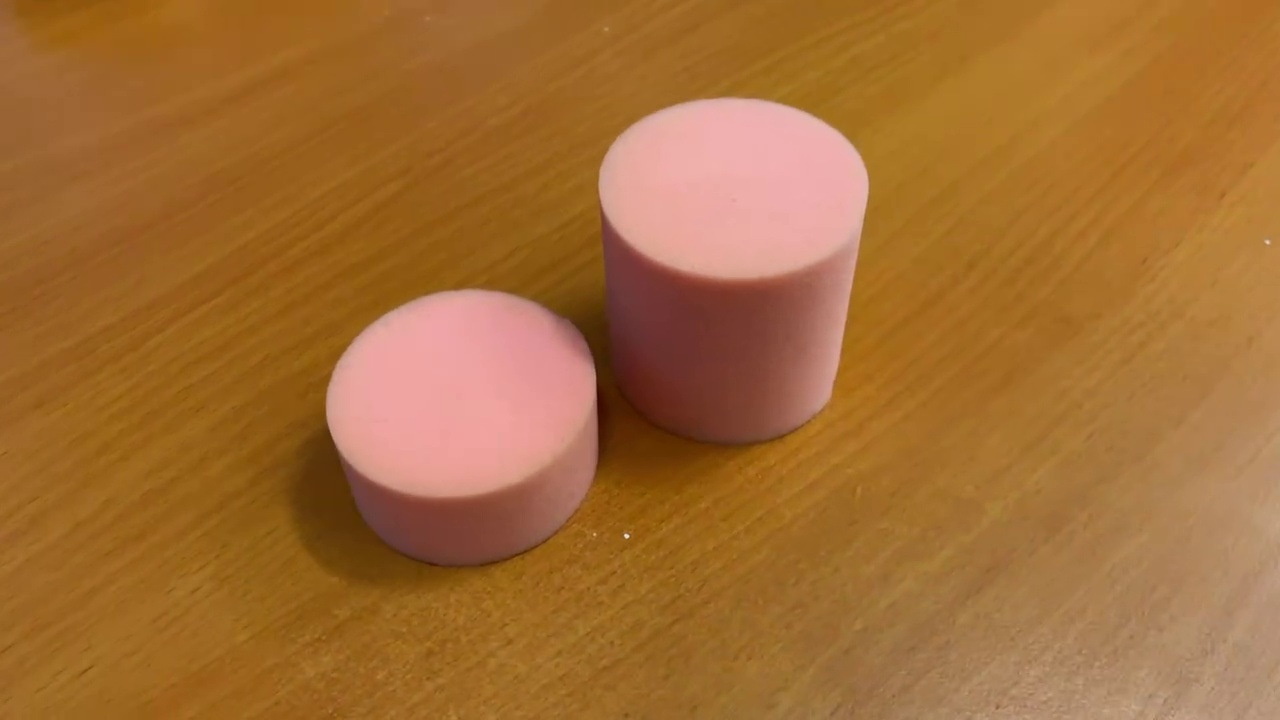Clyinder_short: (316, 280, 604, 572)
Cylinder: (591, 90, 871, 449)
